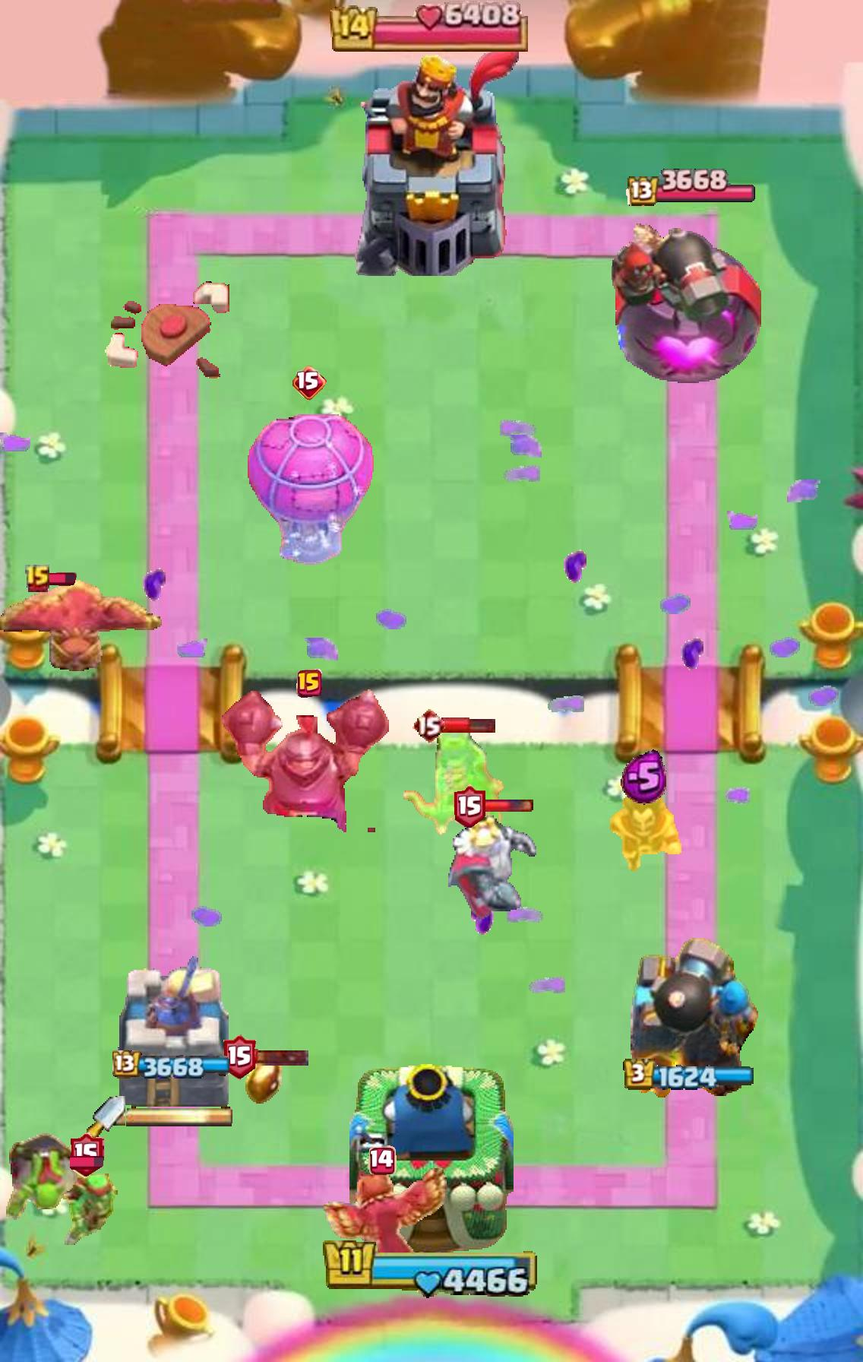bar: (253, 1048, 309, 1066), (441, 717, 496, 733), (482, 799, 534, 814), (48, 572, 77, 586)
bar-level: (223, 1034, 257, 1080), (70, 1132, 104, 1178), (454, 784, 485, 828), (293, 366, 327, 401), (412, 707, 445, 743), (24, 564, 52, 594), (369, 1145, 397, 1175), (296, 669, 322, 698)
